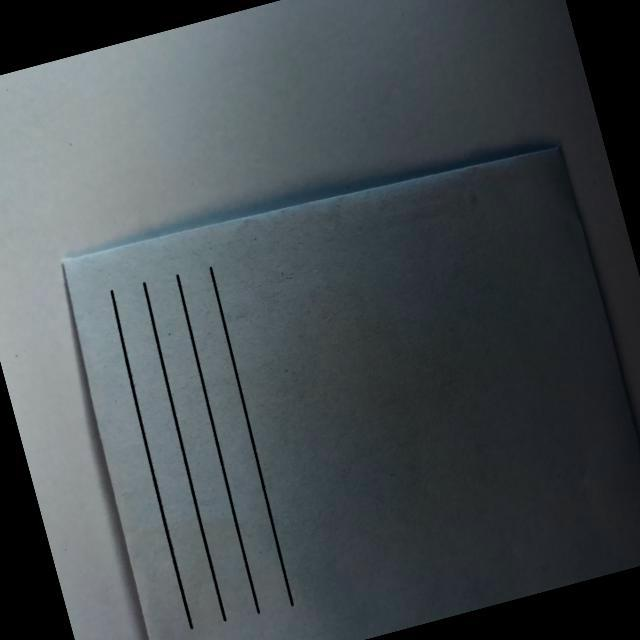paper: (45, 120, 640, 640)
